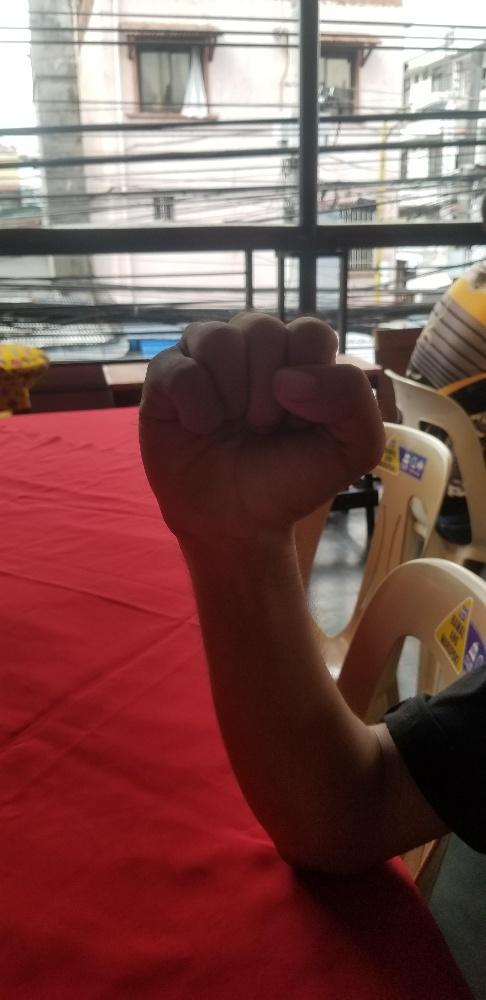s: (134, 308, 388, 539)
